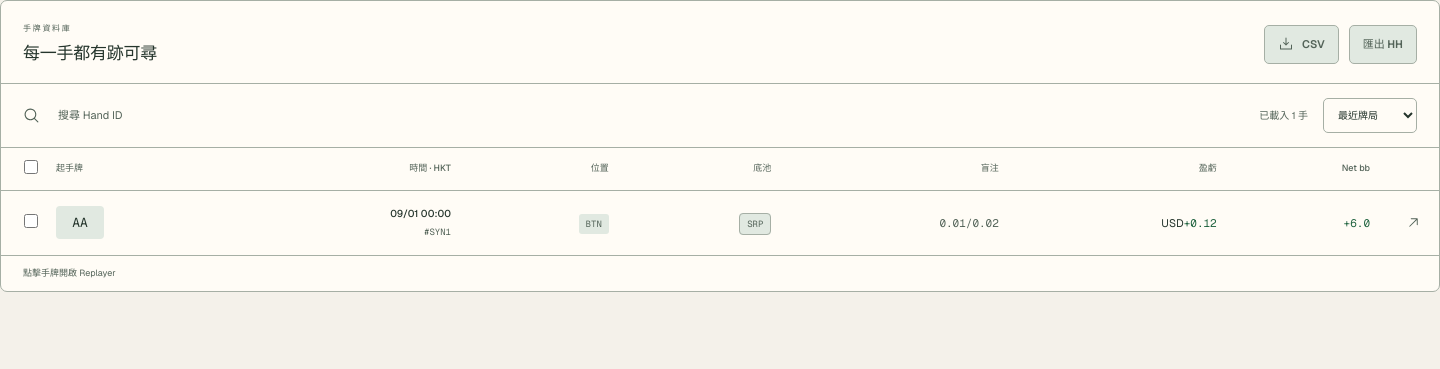
Test case: UI request and storage regressions › keeps checkbox keyboard input separate from opening a hand and catches export dialog errors
Press Enter in the checkbox named "選取 SYN1", box [24, 214, 38, 228]
Click the button "CSV".
click(1301, 44)  # box [1264, 25, 1339, 64]
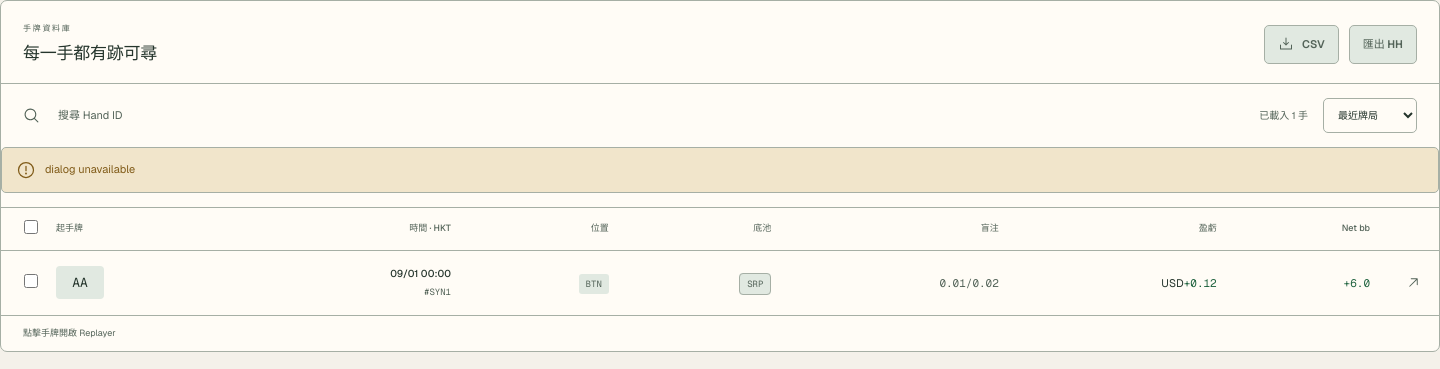
Now the message reads "dialog unavailable", box [45, 162, 135, 176]
